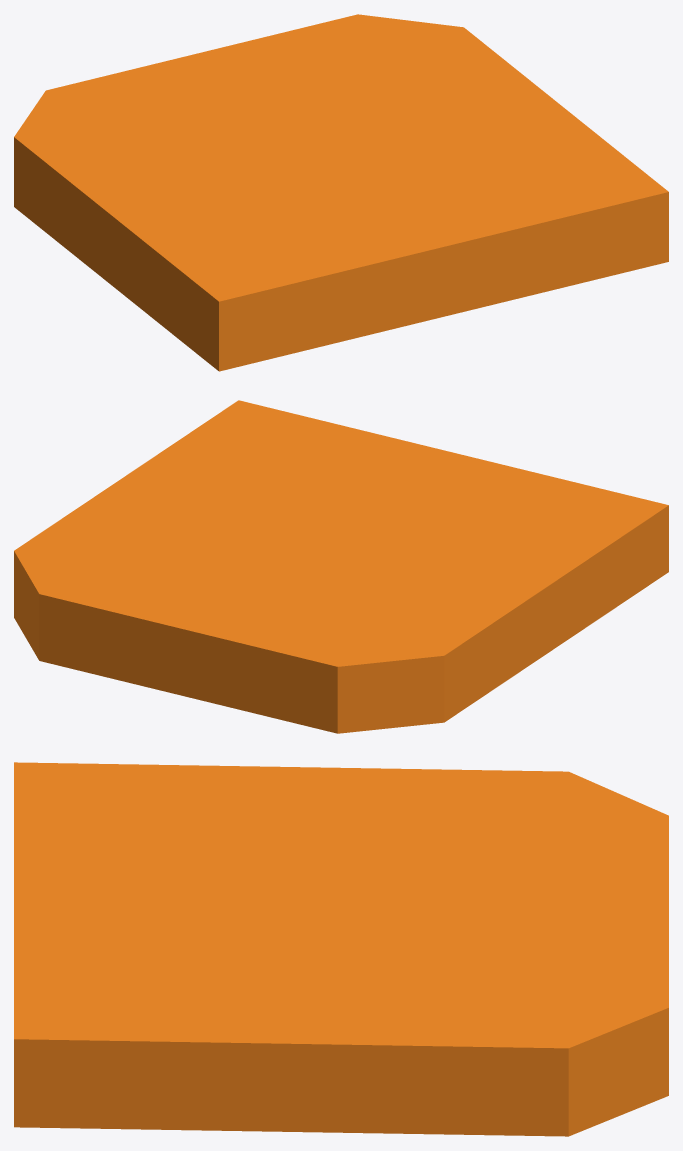
File: pizza_box.fbx
3 views of the same model, one above another, from view 1: azimuth 30°, elevation 25°; view 2: azimuth 150°, elevation 25°; view 3: azimuth 270°, elevation 25° (orthographic). The views are drawn at different scales.
Parts seen in each view (by area): view 1: Pizza; view 2: Pizza; view 3: Pizza.
Boxes of the visible parts, x1,y1,x2,y2 form: Pizza: (14,14,668,371); Pizza: (14,400,668,733); Pizza: (14,762,668,1136).
Bounding box in the file's own units: 207 × 29.7 × 200.
